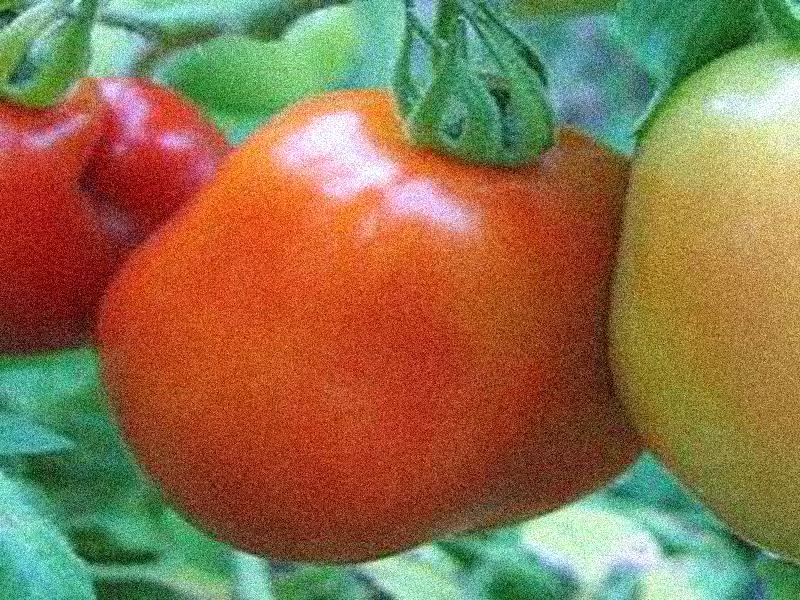Tomato: (95, 90, 618, 564)
